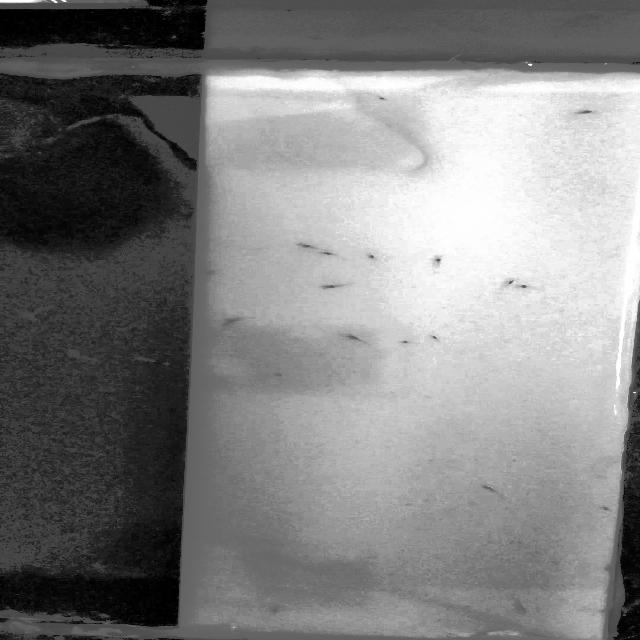shrimp: (216, 312, 250, 332), (332, 328, 366, 346), (566, 105, 612, 118), (311, 250, 344, 263), (500, 598, 530, 612), (315, 282, 354, 292), (298, 239, 326, 251), (471, 484, 502, 494), (267, 372, 299, 381), (515, 284, 543, 294), (461, 629, 494, 636), (433, 253, 448, 266), (526, 632, 552, 639), (431, 332, 444, 345), (393, 340, 416, 347), (366, 253, 382, 263), (500, 279, 520, 286), (267, 606, 280, 615)
